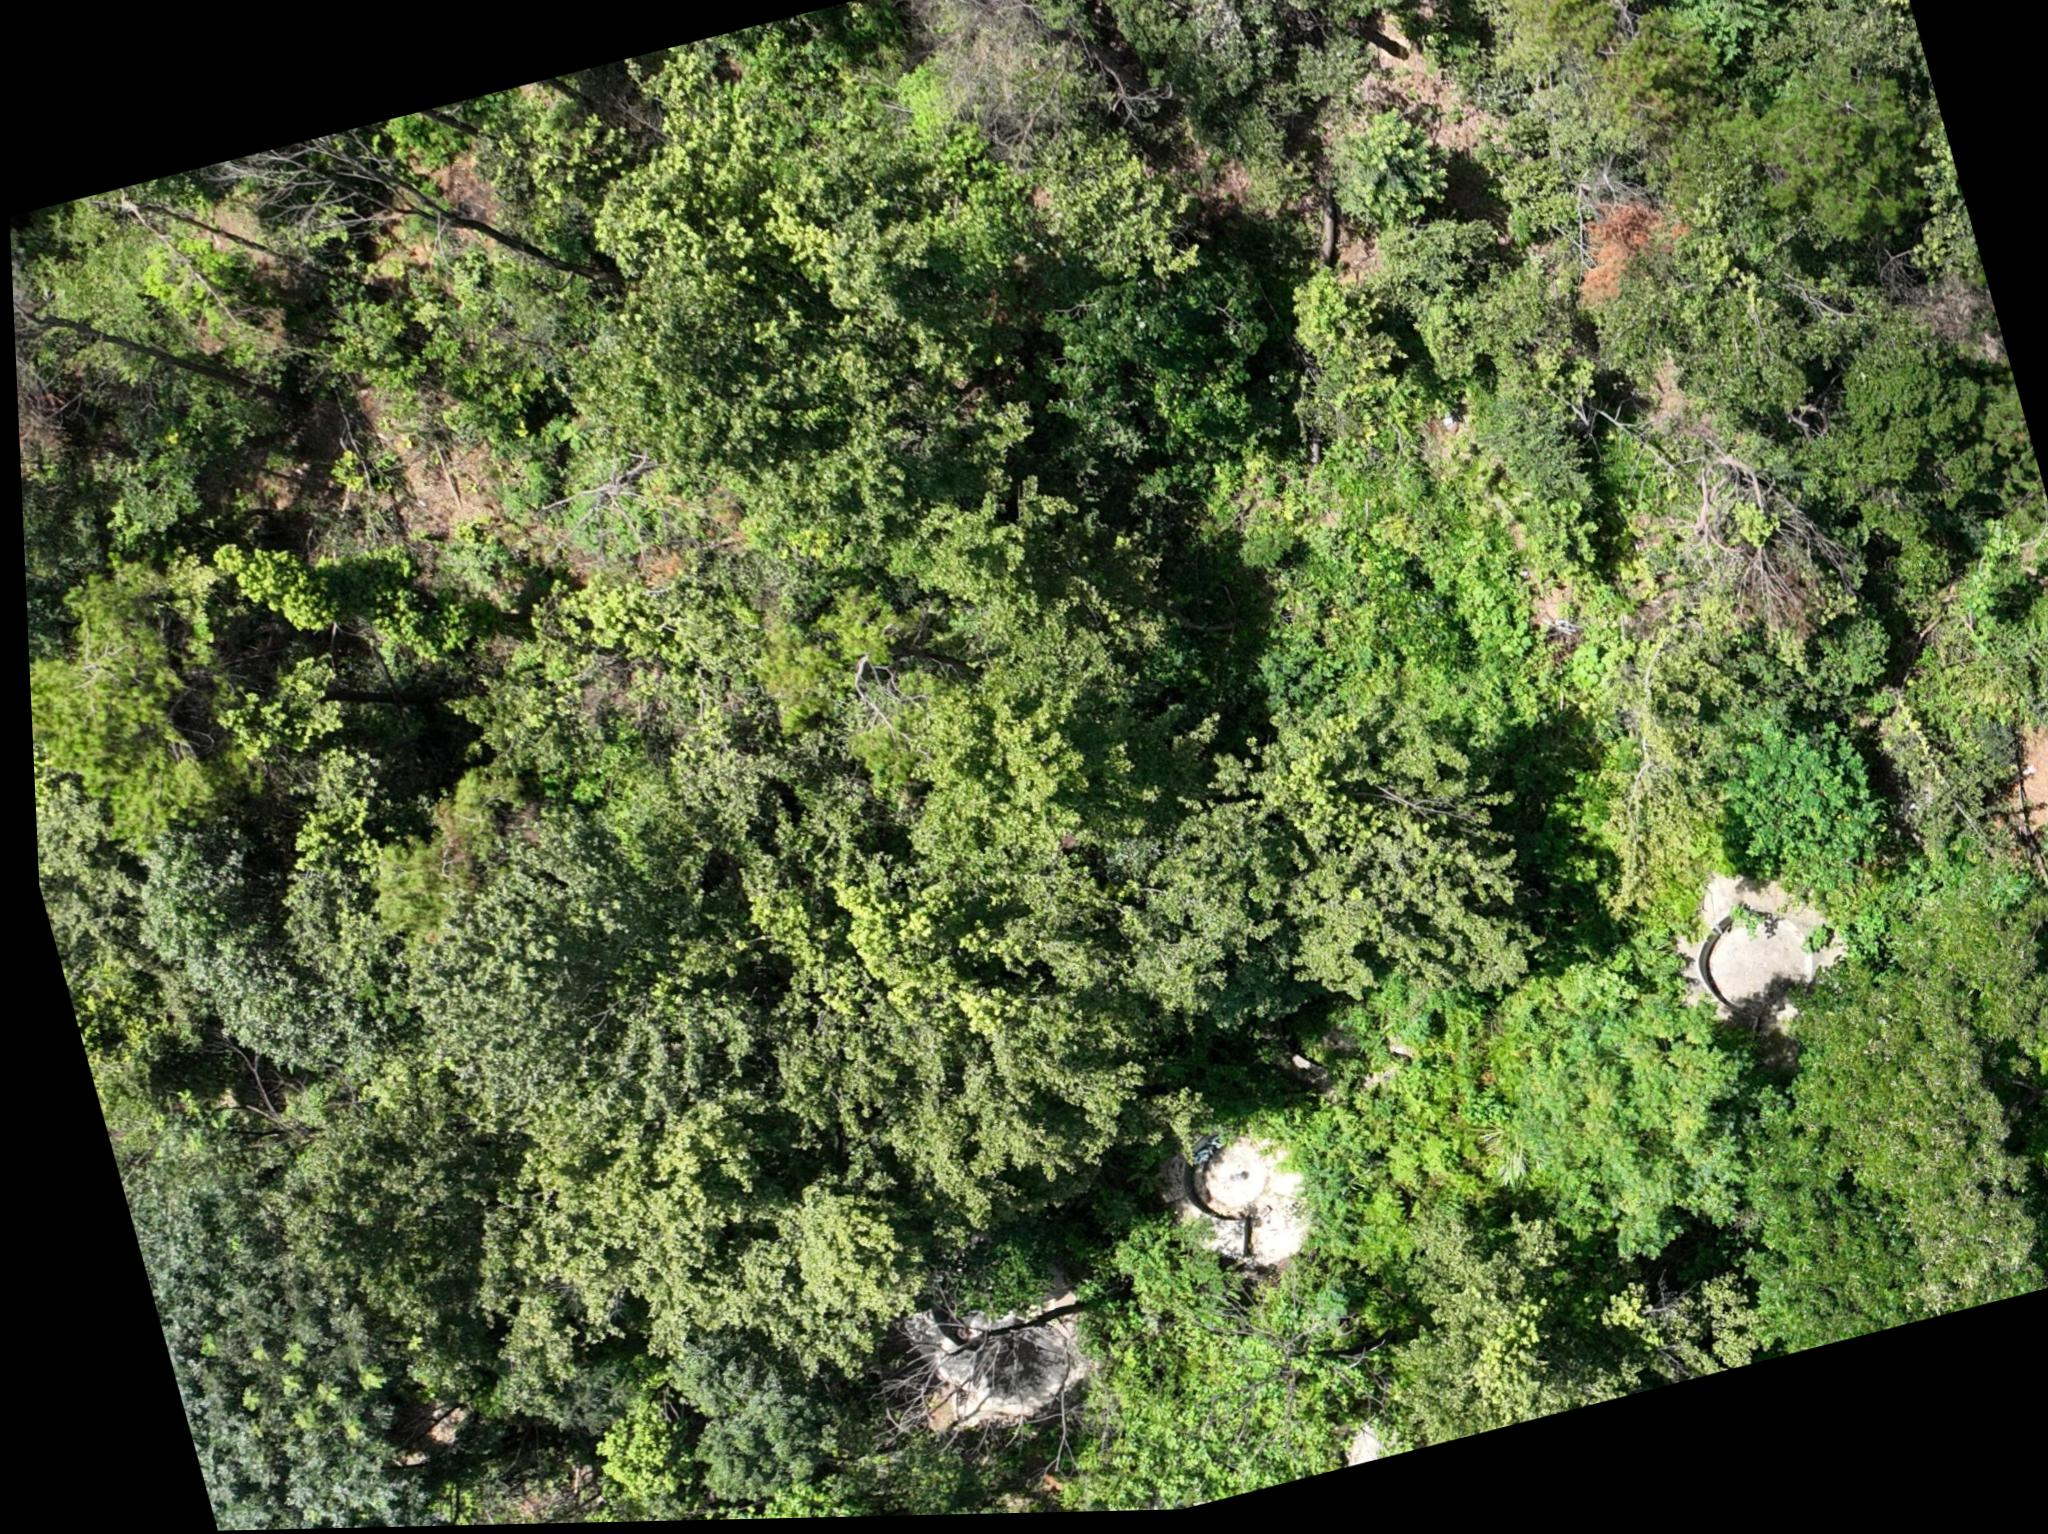heavy: (1550, 185, 1702, 324), (13, 350, 84, 495)
